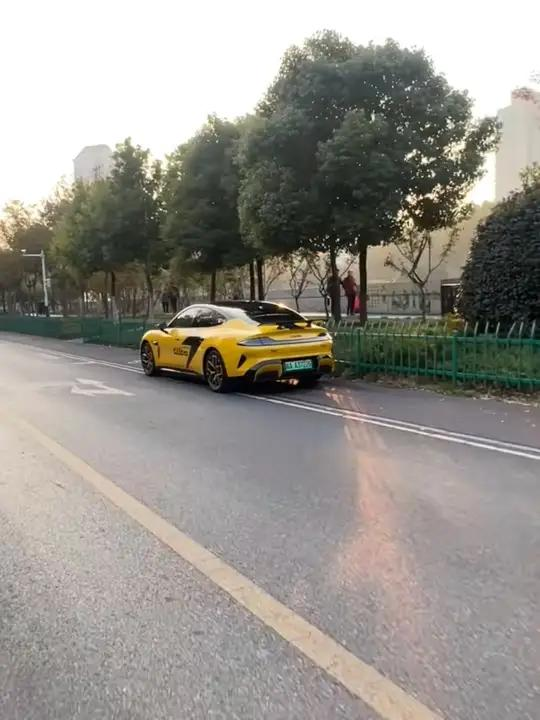su7: (132, 303, 340, 390)
